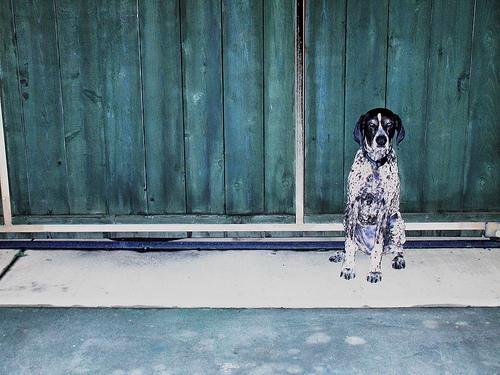dog-german_shorthaired: (354, 108, 404, 152)
